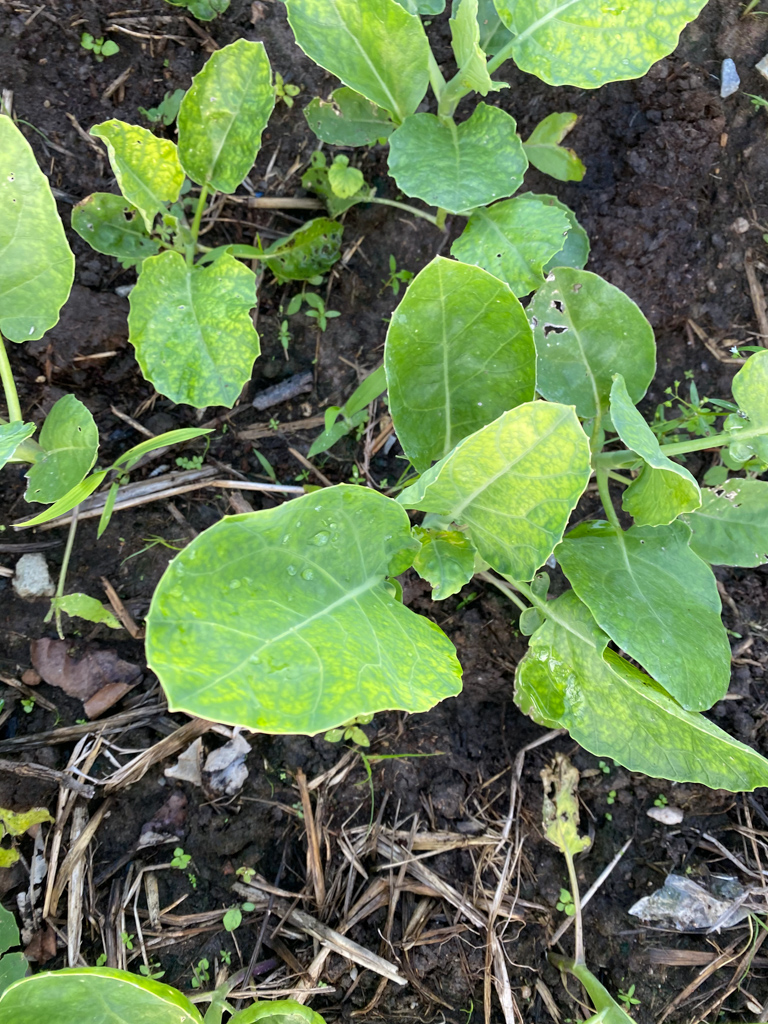Pepper yellow leaf: (447, 397, 580, 561), (114, 116, 186, 204)
